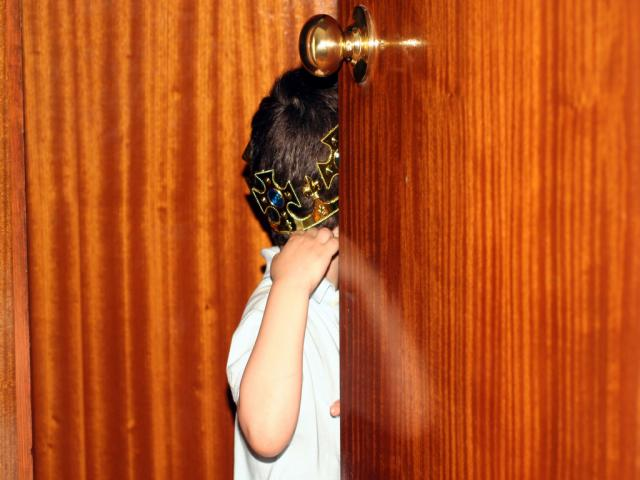Door-handle: (298, 3, 374, 85)
